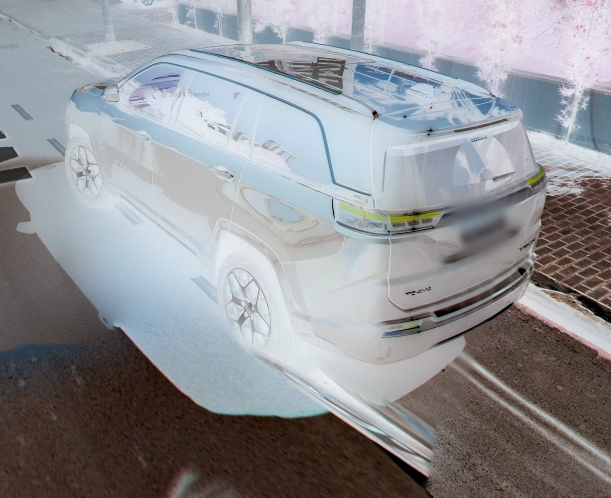car: (61, 35, 549, 365)
